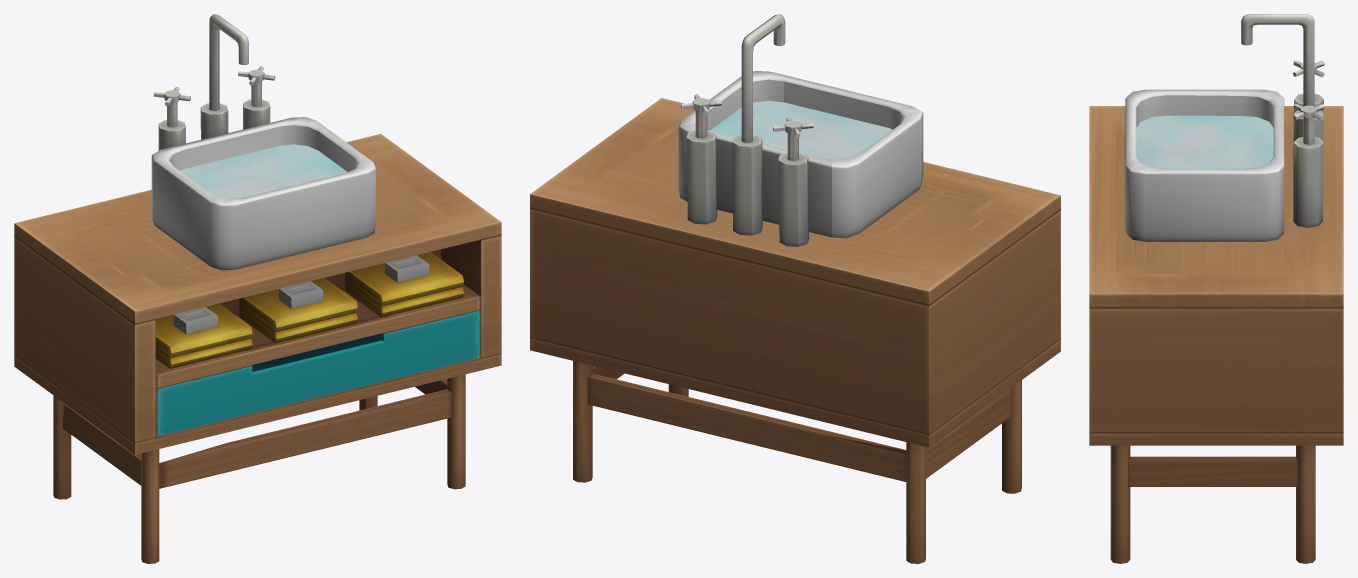
File: lavabo.fbx
3 renders of one model, left to right at view 1: azimuth 30°, elevation 25°; view 2: azimuth 150°, elevation 25°; view 3: azimuth 270°, elevation 25°, orthographic. The views are drawn at different scales.
Parts seen in each view (by area): view 1: Lavabo; view 2: Lavabo; view 3: Lavabo.
Boxes of the visible parts, left/top/right/bottom form: Lavabo: left=14, top=14, right=501, bottom=563; Lavabo: left=530, top=14, right=1060, bottom=563; Lavabo: left=1089, top=14, right=1343, bottom=563.
Bounding box in the file's own units: 119 × 138 × 67.93.
Materials: 7 (7 with a texture image).
